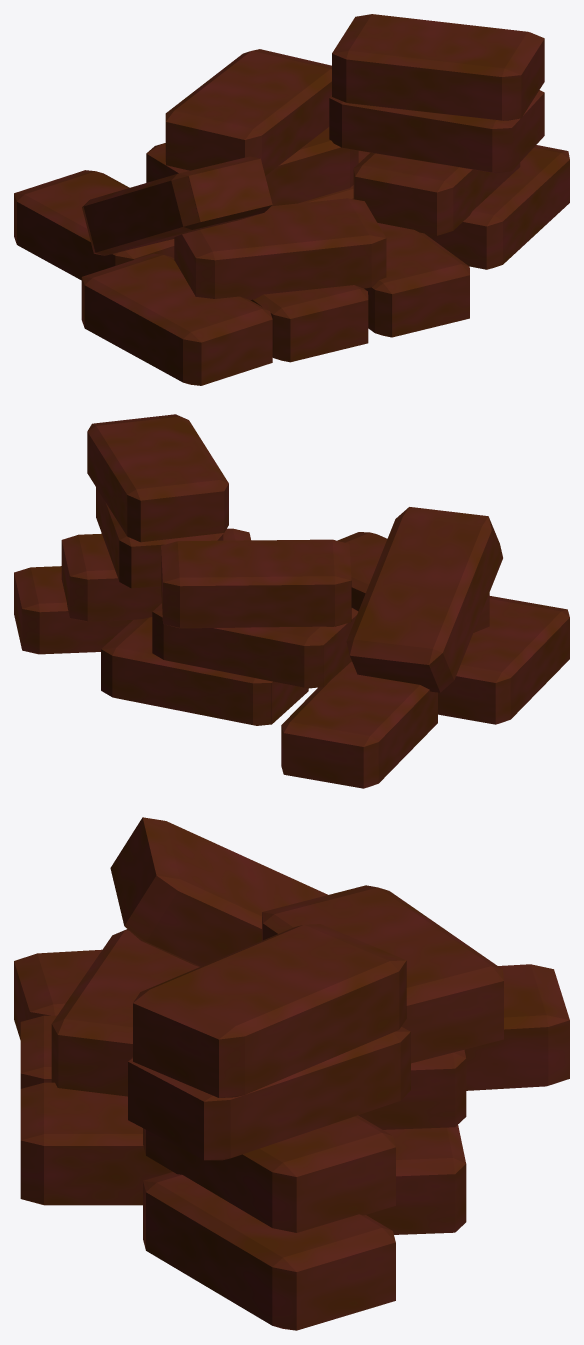
File: pileBricks.fbx
3 renders of one model, top to bottom at view 1: azimuth 30°, elevation 25°; view 2: azimuth 150°, elevation 25°; view 3: azimuth 270°, elevation 25°, orthographic. The views are drawn at different scales.
Visible parts, largest first — view 1: BunchBricks; view 2: BunchBricks; view 3: BunchBricks.
Part boxes in pixels (left/top/right/bottom): BunchBricks: left=14, top=14, right=569, bottom=385; BunchBricks: left=14, top=414, right=569, bottom=788; BunchBricks: left=14, top=817, right=569, bottom=1330.
Size of the model in its own units: 328 by 125 by 234.
